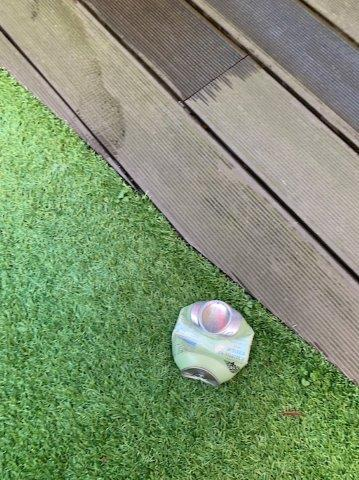kaleng: (170, 299, 254, 389)
